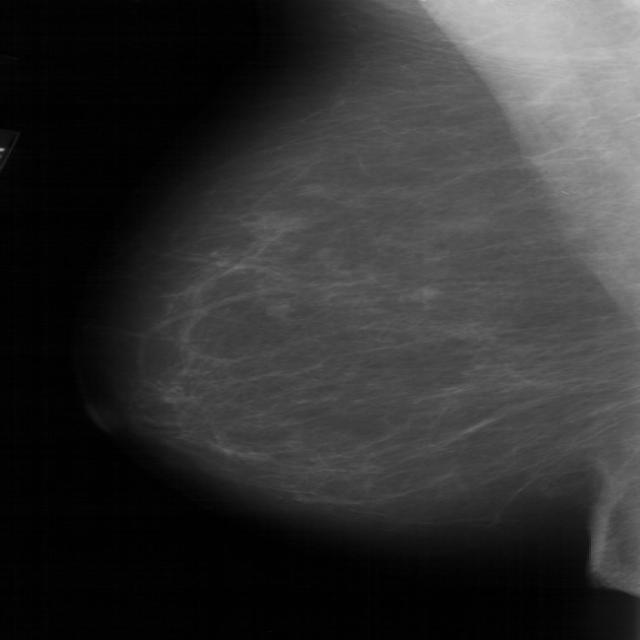tumour: (260, 301, 291, 316)
